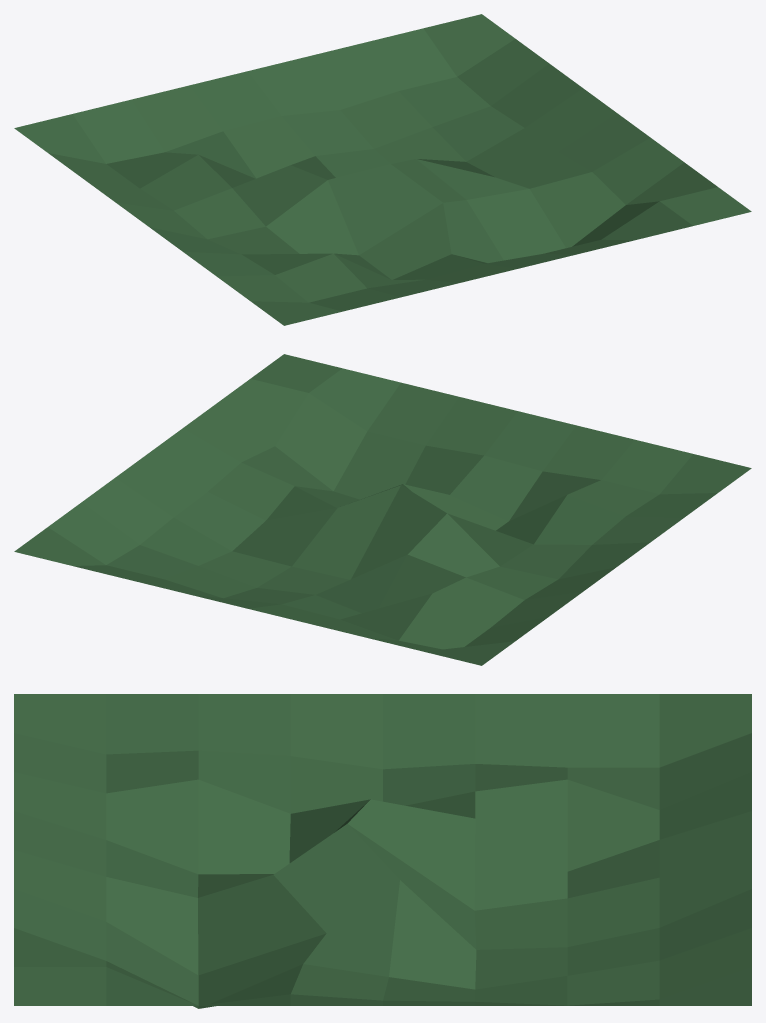
Rendered from Terrain_20_Light_Green.fbx.
3 renders of one model, top to bottom at view 1: azimuth 30°, elevation 25°; view 2: azimuth 150°, elevation 25°; view 3: azimuth 270°, elevation 25°, orthographic. The views are drawn at different scales.
Visible parts, largest first — view 1: Terrain_20_Light_Green; view 2: Terrain_20_Light_Green; view 3: Terrain_20_Light_Green.
Boxes of the visible parts, x1,y1,x2,y2 form: Terrain_20_Light_Green: (14,14,751,325); Terrain_20_Light_Green: (14,354,751,665); Terrain_20_Light_Green: (14,694,751,1008).
Bounding box in the file's own units: 8000 × 1307 × 8000.
